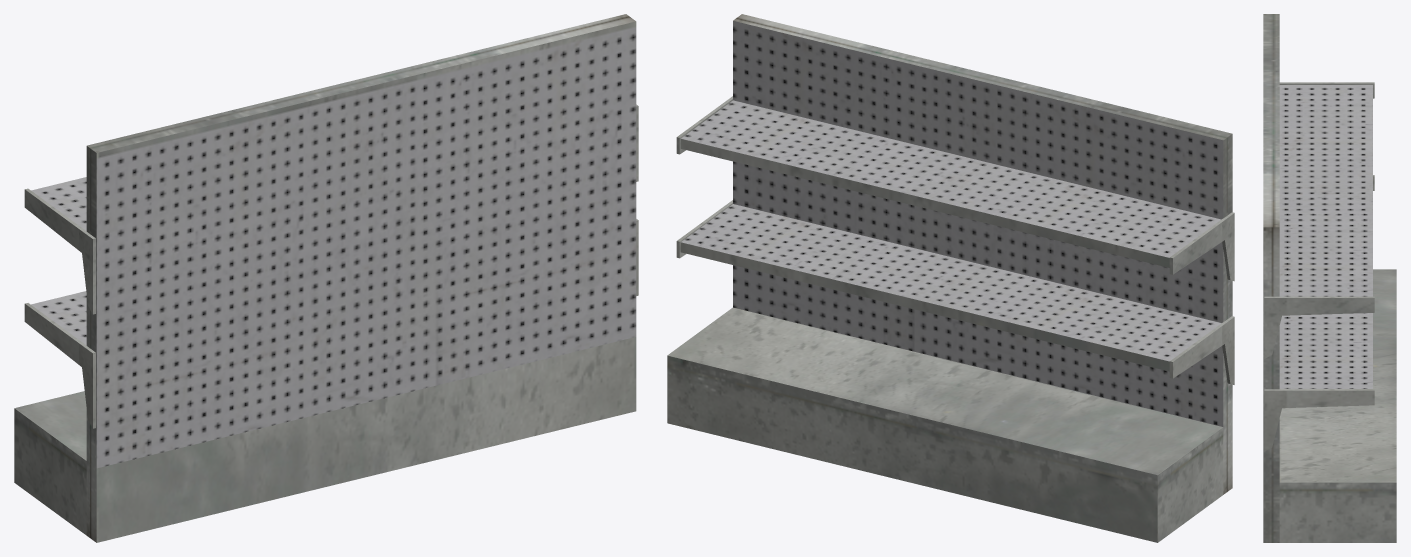
File: shelf.glb
3 renders of one model, left to right at view 1: azimuth 30°, elevation 25°; view 2: azimuth 150°, elevation 25°; view 3: azimuth 270°, elevation 25°, orthographic. The views are drawn at different scales.
Visible parts, largest first — view 1: Shelf; view 2: Shelf; view 3: Shelf.
Boxes of the visible parts, x1,y1,x2,y2 form: Shelf: (14,14,638,542); Shelf: (667,14,1234,542); Shelf: (1263,14,1396,542).
Size of the model in its own units: 2.4 by 1.64 by 0.6278.
1 material, 1 textured.
